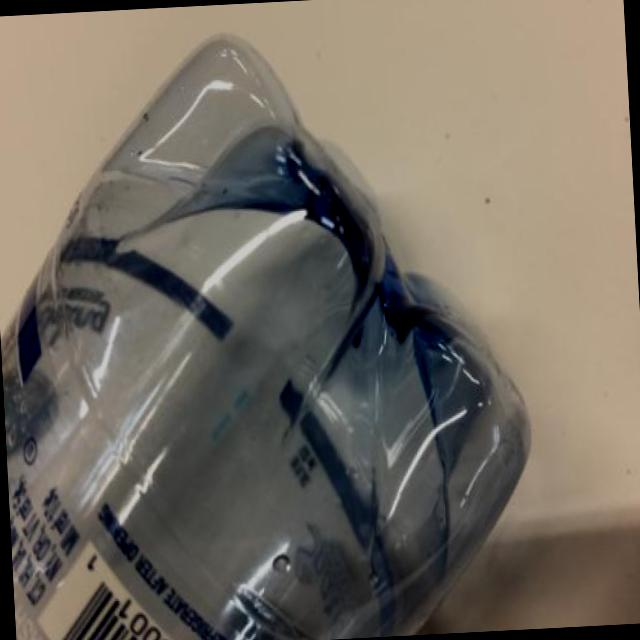Recycle: (0, 7, 545, 640)
